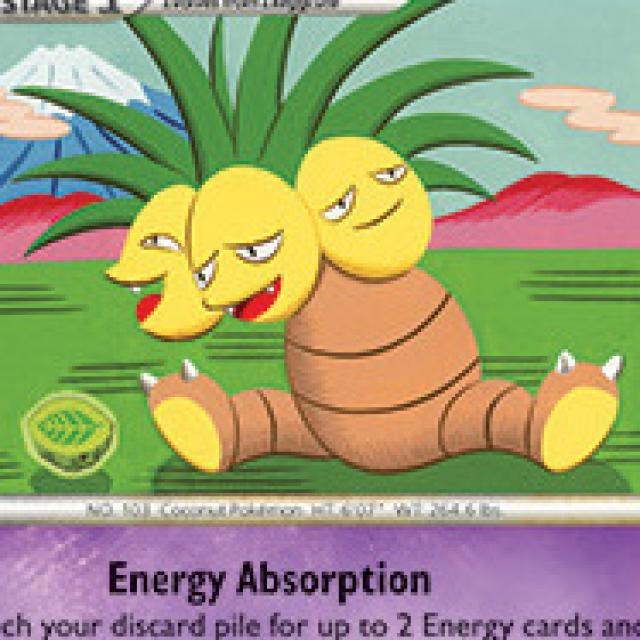Exeggutor: (113, 130, 490, 479)
